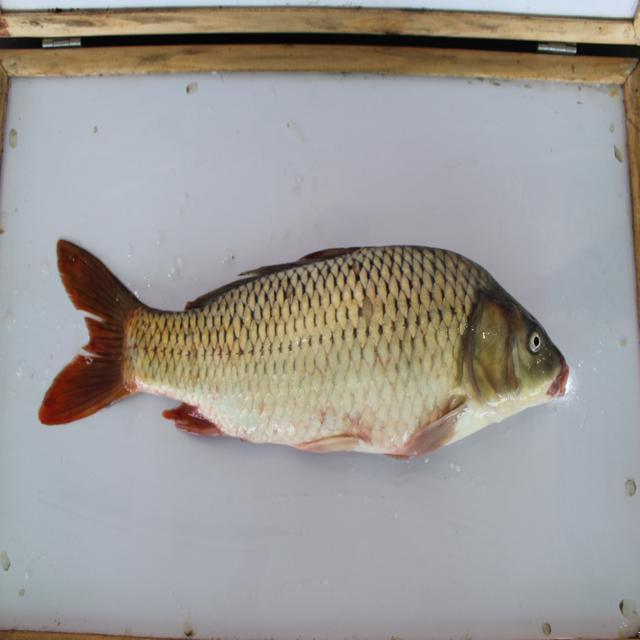CommonCarp: (45, 227, 588, 469)
